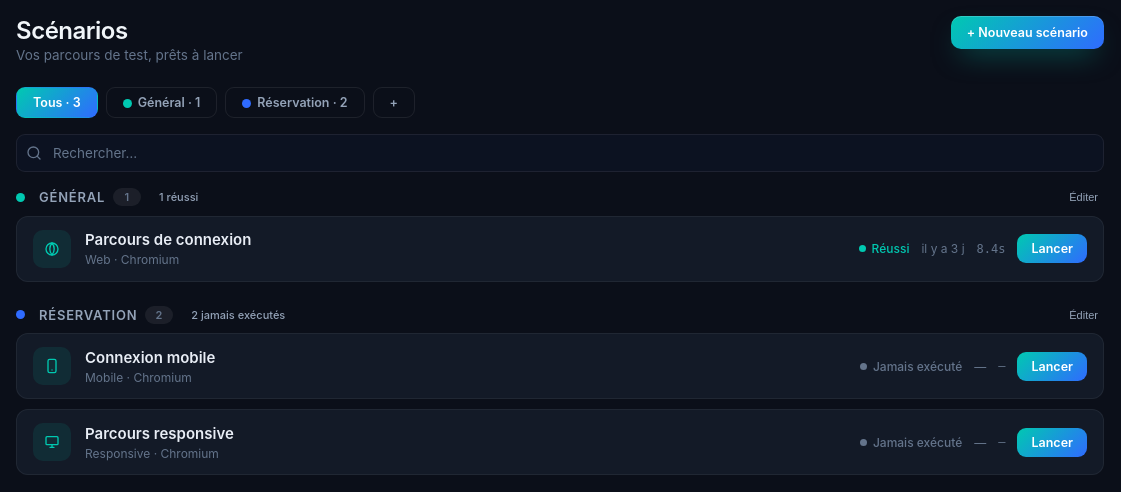
Test case: HubLibrary filtres/recherche/env › filtre par groupe (Général masque les scénarios des autres groupes)
Check: the text "Parcours de connexion" is shown, box [85,230,251,249]
# Click the "Général · N" group tab
Click the button "Général · 1".
click(162, 102)  # box [106,87,217,118]
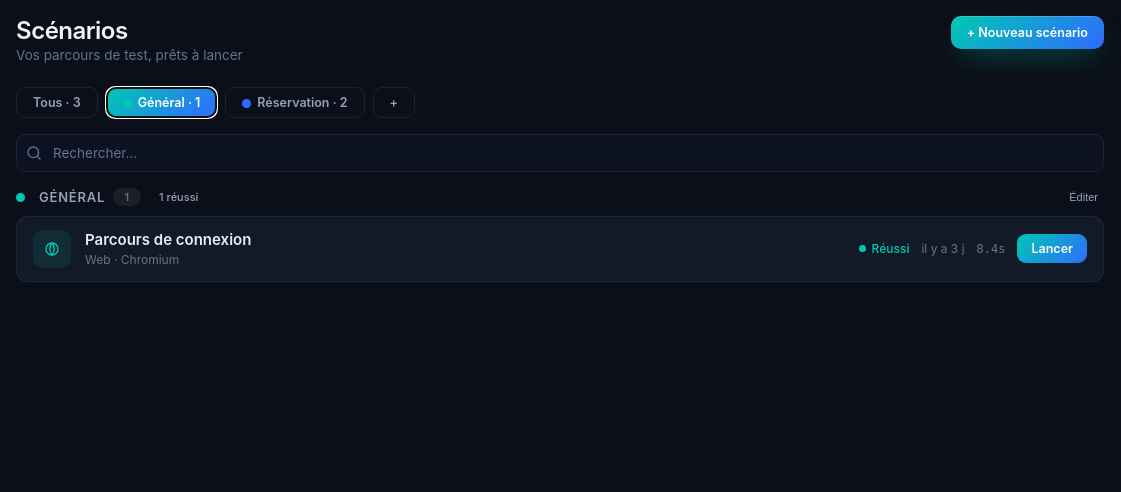
Check: the text "Parcours de connexion" is shown, box [85,230,251,249]
Check: the text "Connexion mobile" is gone
